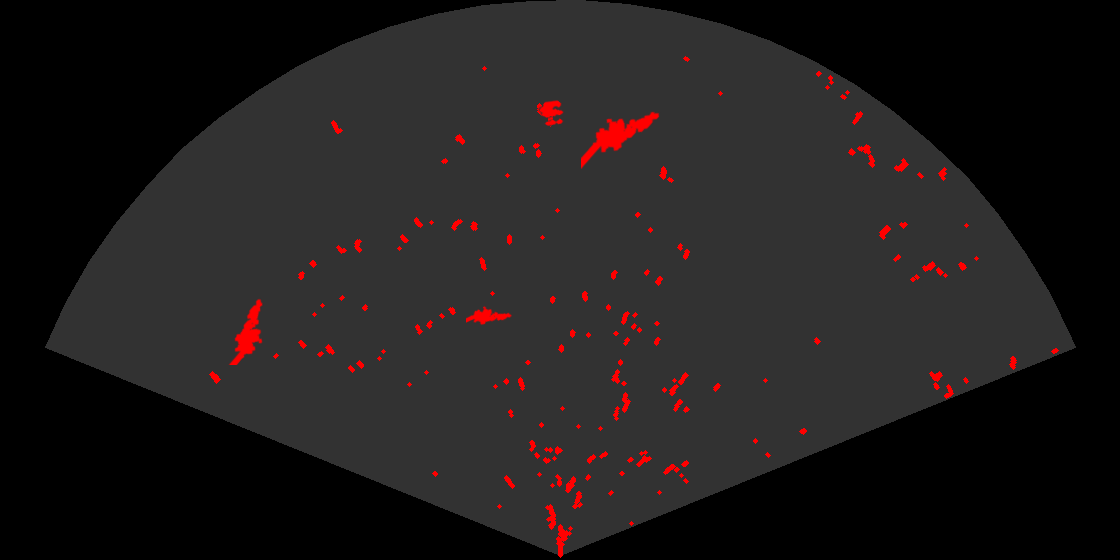ball: (538, 99, 565, 127)
frogman: (581, 110, 661, 169), (227, 297, 264, 365), (466, 304, 512, 327)
